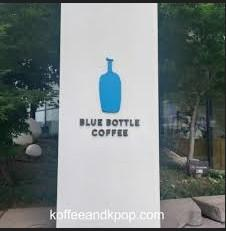bottle: (87, 45, 130, 118)
